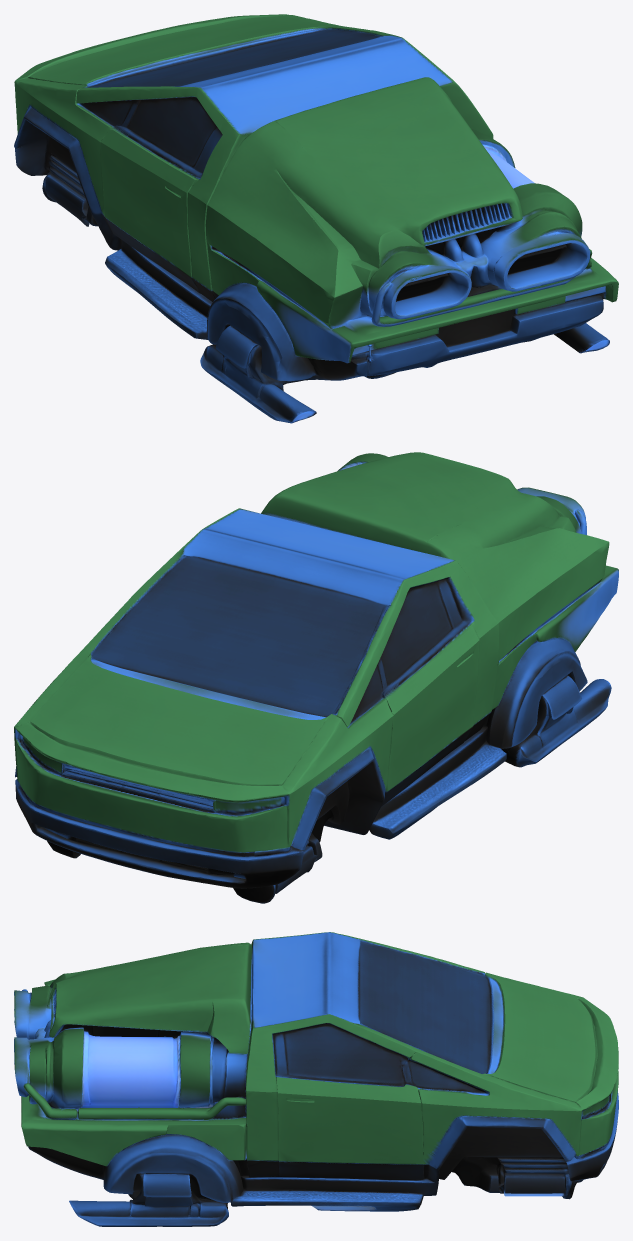
Rendered from sandboxer_tide.glb.
The picture shows the model from 3 angles, top to bottom: view 1: azimuth 30°, elevation 25°; view 2: azimuth 150°, elevation 25°; view 3: azimuth 270°, elevation 25°; orthographic projection. The views are drawn at different scales.
Parts seen in each view (by area): view 1: model; view 2: model; view 3: model.
Boxes of the visible parts, box(x1,y1,x2,y2) form: model: box(14, 14, 618, 423); model: box(14, 452, 618, 903); model: box(14, 932, 618, 1226).
Bounding box in the file's own units: 2.7 × 1.75 × 4.96.
1 material, 1 textured.
